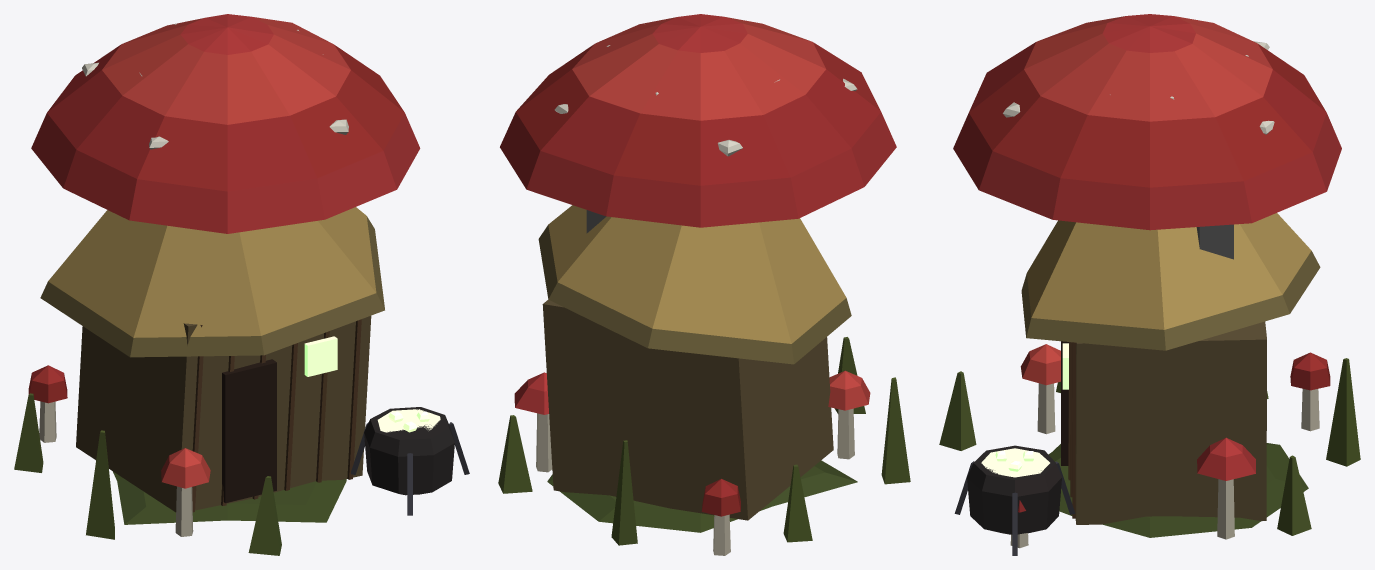
File: swamp.glb
3 renders of one model, left to right at view 1: azimuth 30°, elevation 25°; view 2: azimuth 150°, elevation 25°; view 3: azimuth 270°, elevation 25°, orthographic.
Parts seen in each view (by area): view 1: swamp_witch_hut_a, swamp_giant_toadstool_a; view 2: swamp_witch_hut_a, swamp_giant_toadstool_a; view 3: swamp_witch_hut_a, swamp_giant_toadstool_a.
Part boxes in pixels (x1,y1,x2,y2): swamp_witch_hut_a: (14,207,469,555); swamp_giant_toadstool_a: (28,14,420,536); swamp_witch_hut_a: (498,205,910,545); swamp_giant_toadstool_a: (500,14,896,555); swamp_witch_hut_a: (939,213,1360,555); swamp_giant_toadstool_a: (953,14,1341,548).
Bounding box in the file's own units: 2.58 × 3.13 × 2.65.
